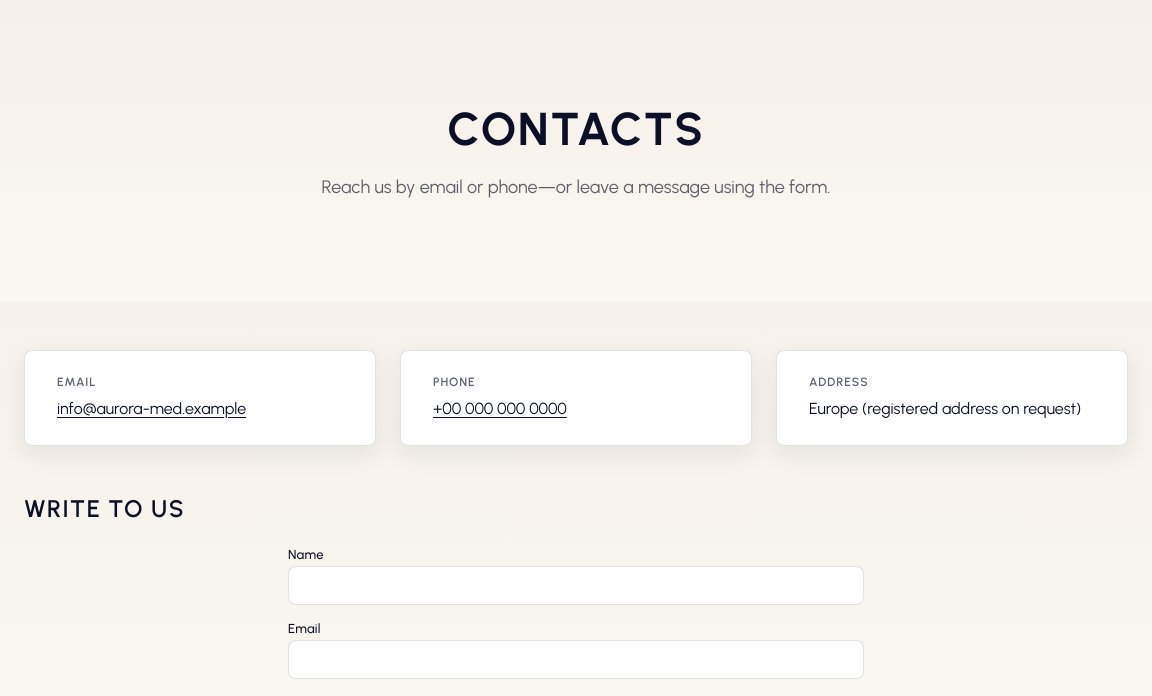
Scenario: Contacts page › shows error message when sendEmail rejects
Type "Jane Doe" into the field labelled "Name".
click(576, 586); type("Jane Doe")  # box [288, 566, 864, 605]
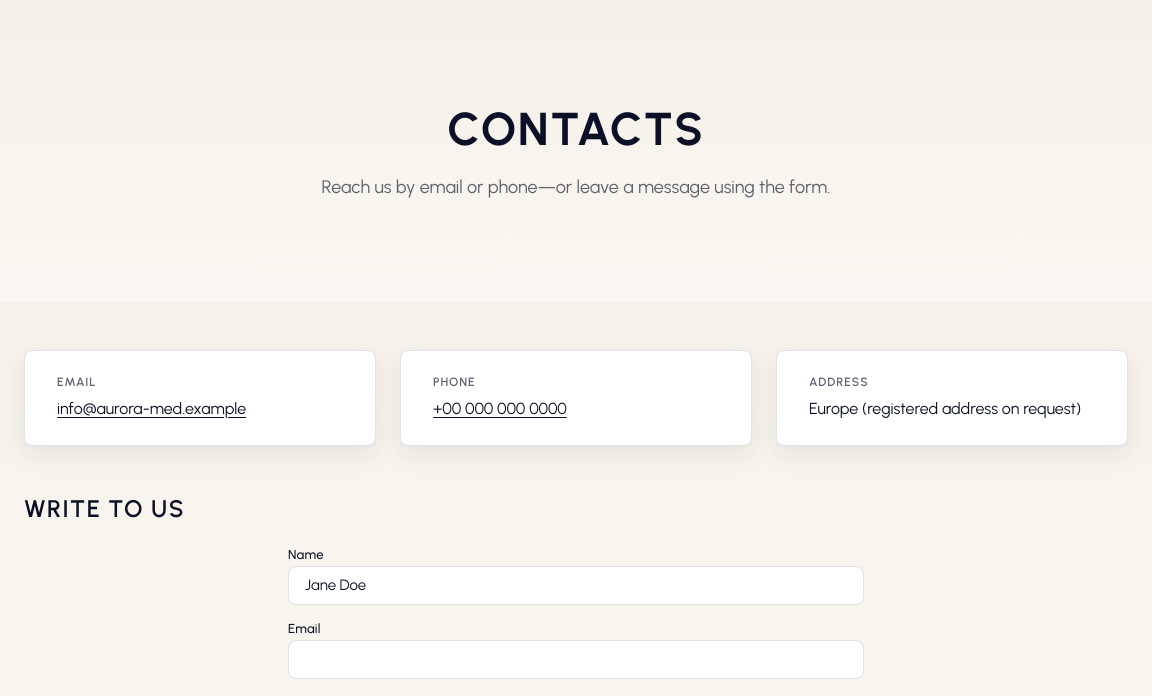
Type "jane@example.com" into the field labelled "Email".
click(576, 660); type("jane@example.com")  # box [288, 640, 864, 679]
(page scrolled)
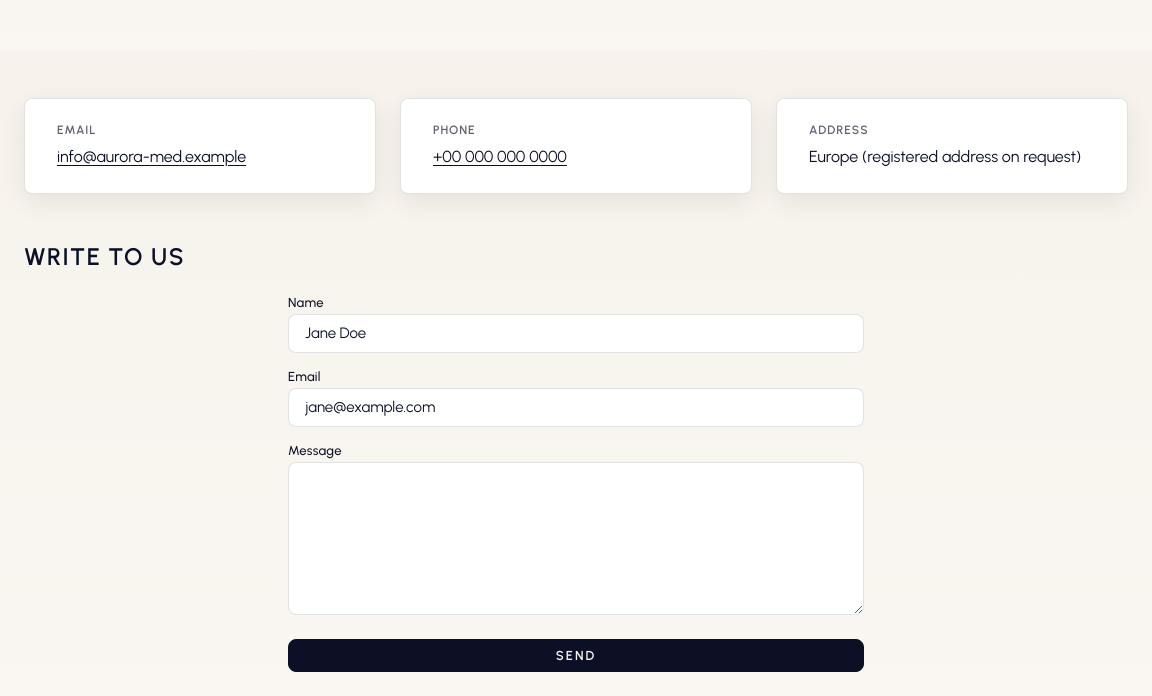
Type "Hello" into the text box labelled "Message".
click(576, 539); type("Hello")  # box [288, 462, 864, 615]
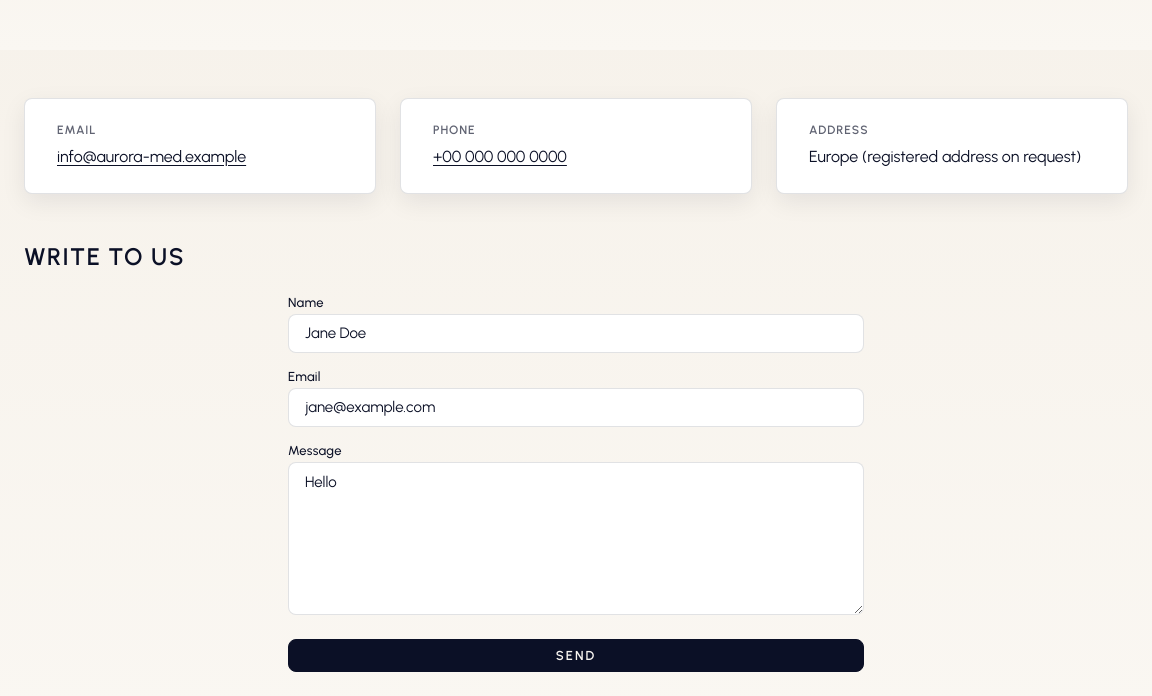
Submit the form with test id "contacts-form", box [288, 295, 864, 672]
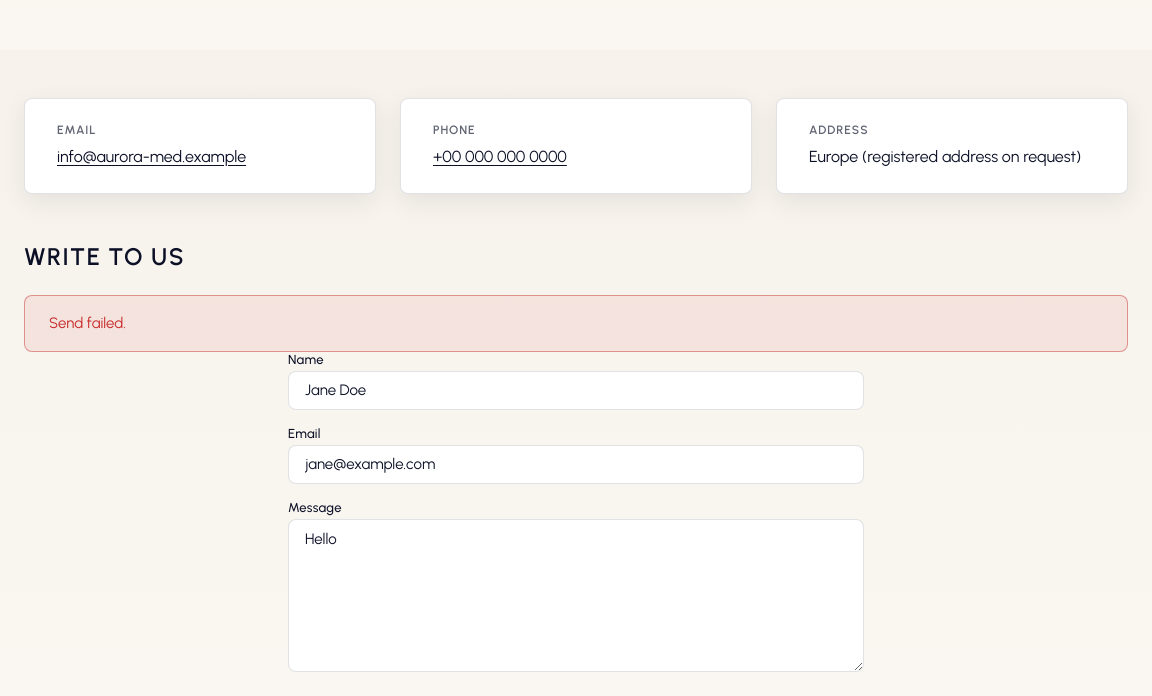
expect the message "Send failed." is shown: met, box [24, 295, 1128, 352]
